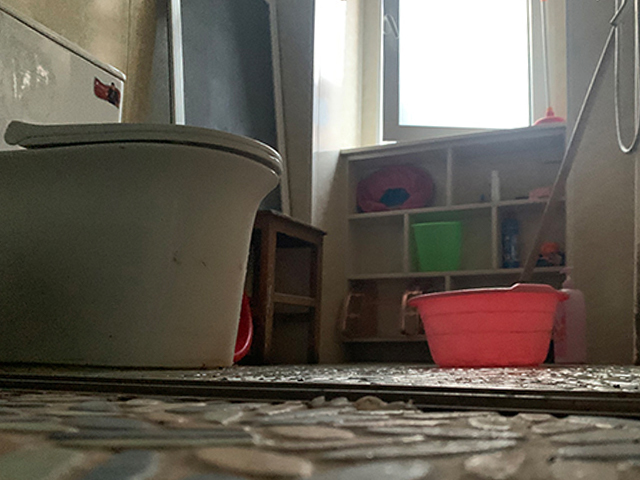closestool: (1, 1, 285, 368)
stool: (247, 208, 327, 366)
